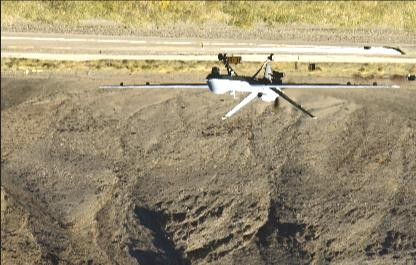MQ9: (98, 53, 398, 119)
